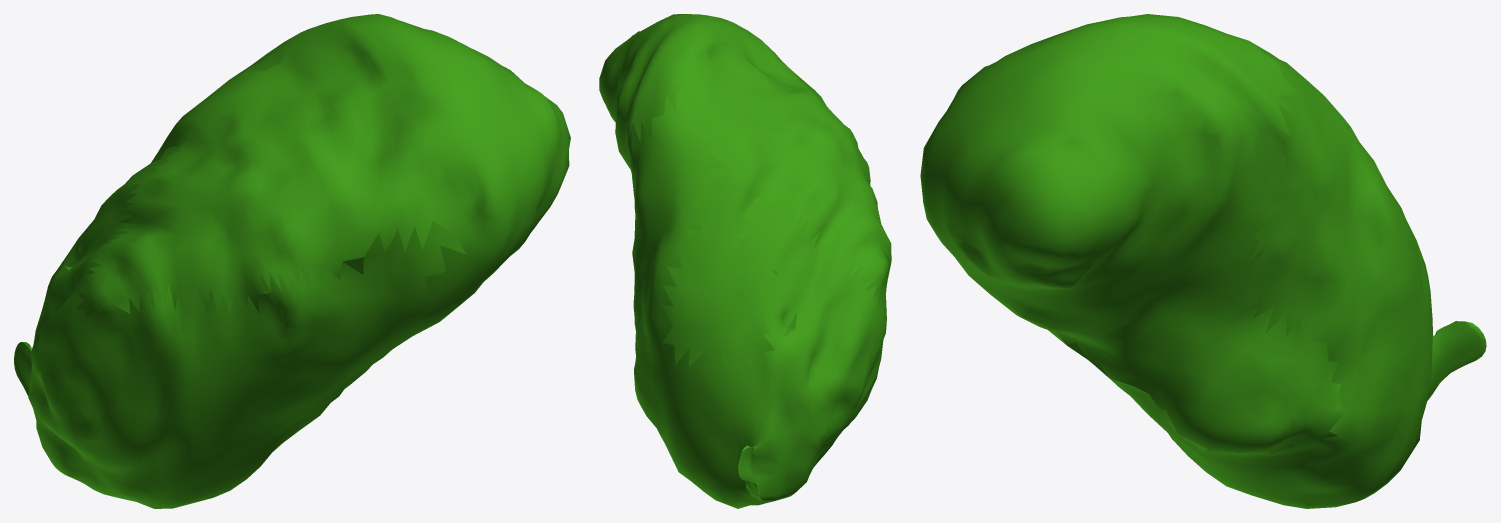
Rendered from Gallbladder.obj.
3 views of the same model, side by side, from view 1: azimuth 30°, elevation 25°; view 2: azimuth 150°, elevation 25°; view 3: azimuth 270°, elevation 25° (orthographic). The views are drawn at different scales.
Visible parts, largest first — view 1: Gallbladder; view 2: Gallbladder; view 3: Gallbladder.
Boxes of the visible parts, bbox=[...] form: Gallbladder: bbox=[14, 14, 570, 508]; Gallbladder: bbox=[599, 14, 891, 508]; Gallbladder: bbox=[920, 14, 1486, 508].
Bounding box in the file's own units: 2.28 × 2.55 × 2.33.
